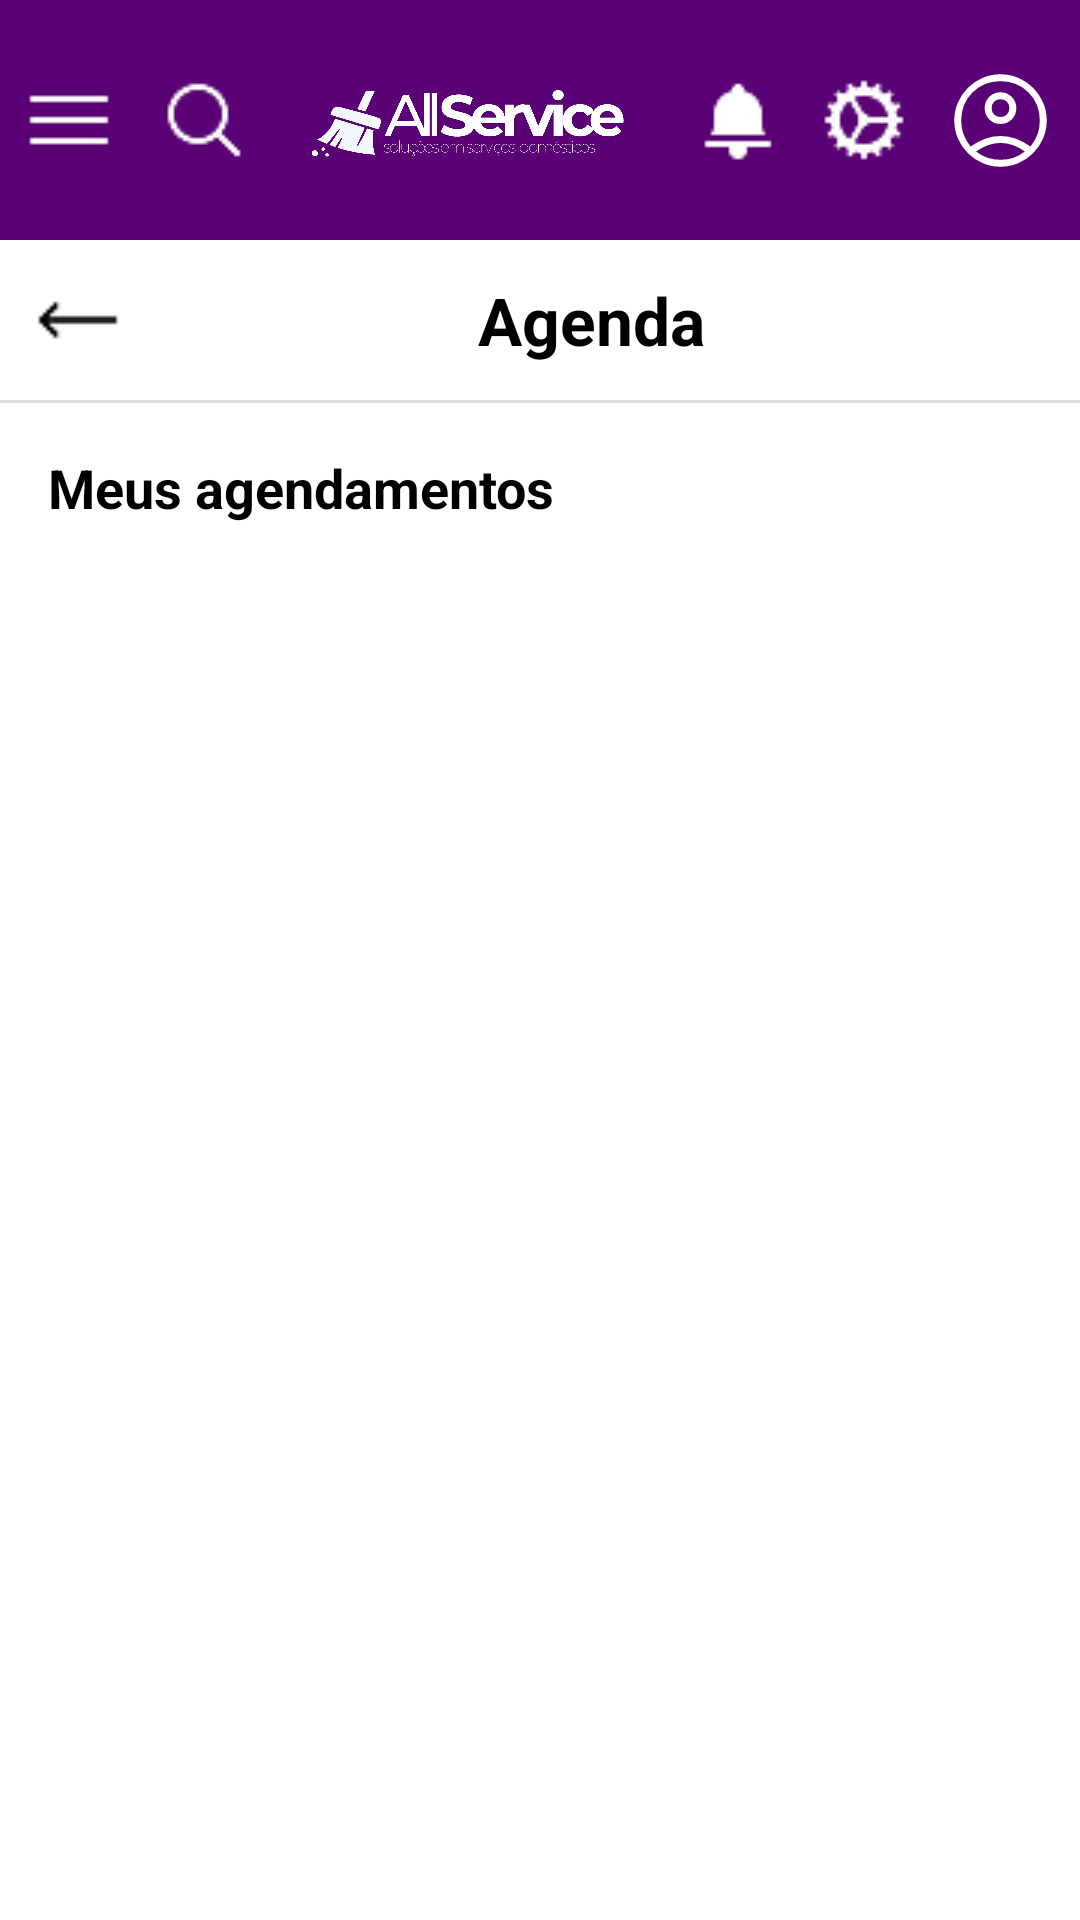

Where icons sit on this 1080*1920 app screen, as (x1=x1, y1=y1, x2=x2, y2=y2):
Buscar: (x1=167, y1=83, x2=241, y2=157)
Configurações: (x1=824, y1=80, x2=904, y2=160)
left arrow: (x1=38, y1=301, x2=118, y2=339)
Menu: (x1=29, y1=95, x2=109, y2=145)
Notificações: (x1=704, y1=83, x2=772, y2=160)
Perfil: (x1=954, y1=74, x2=1047, y2=167)
